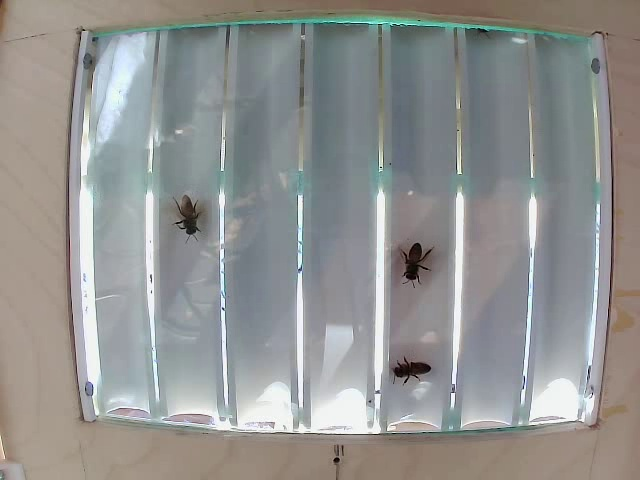bee: (385, 236, 425, 286), (385, 350, 436, 384), (173, 191, 206, 243)
